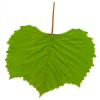grape leaf: (4, 16, 98, 96)
